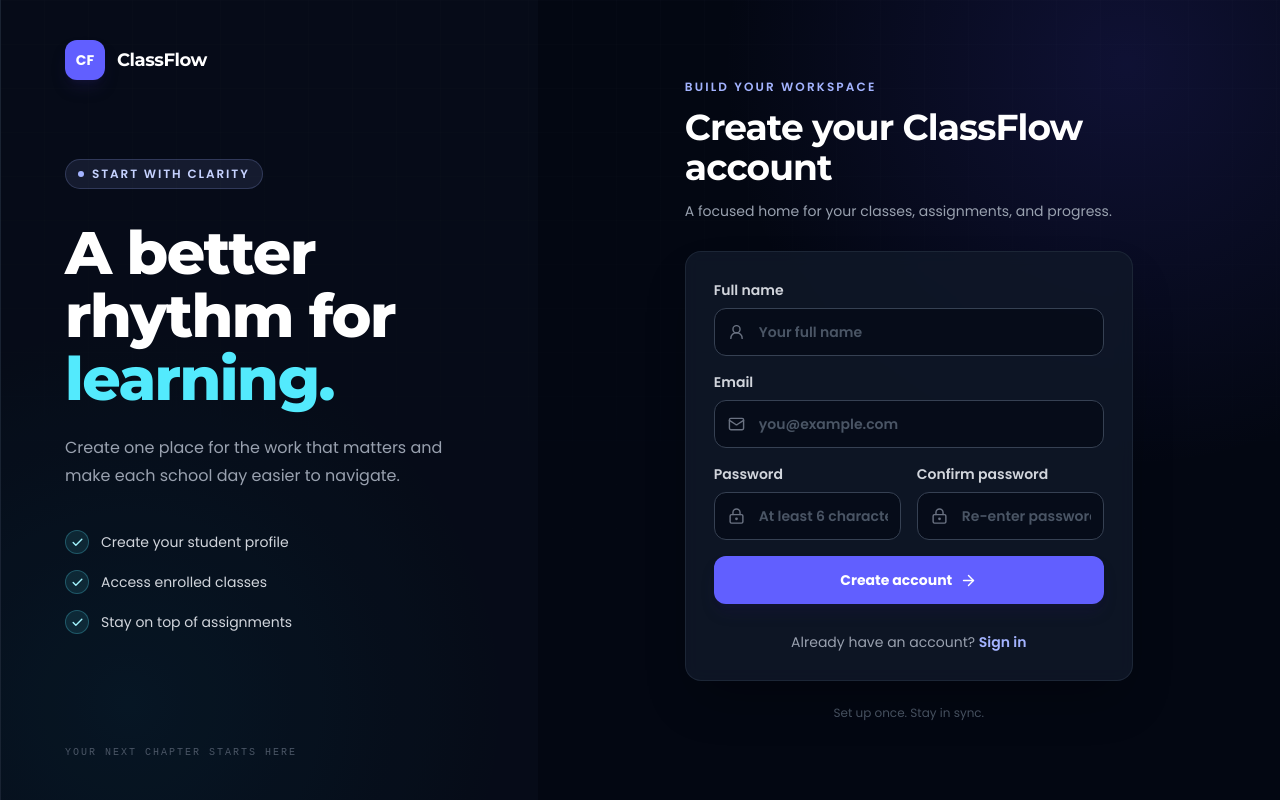
it: Signup › shows client validation and avoids a request
The image size is (1280, 800).
Click the button "Create account" at [909, 580], box x1=714 y1=556 x2=1104 y2=604
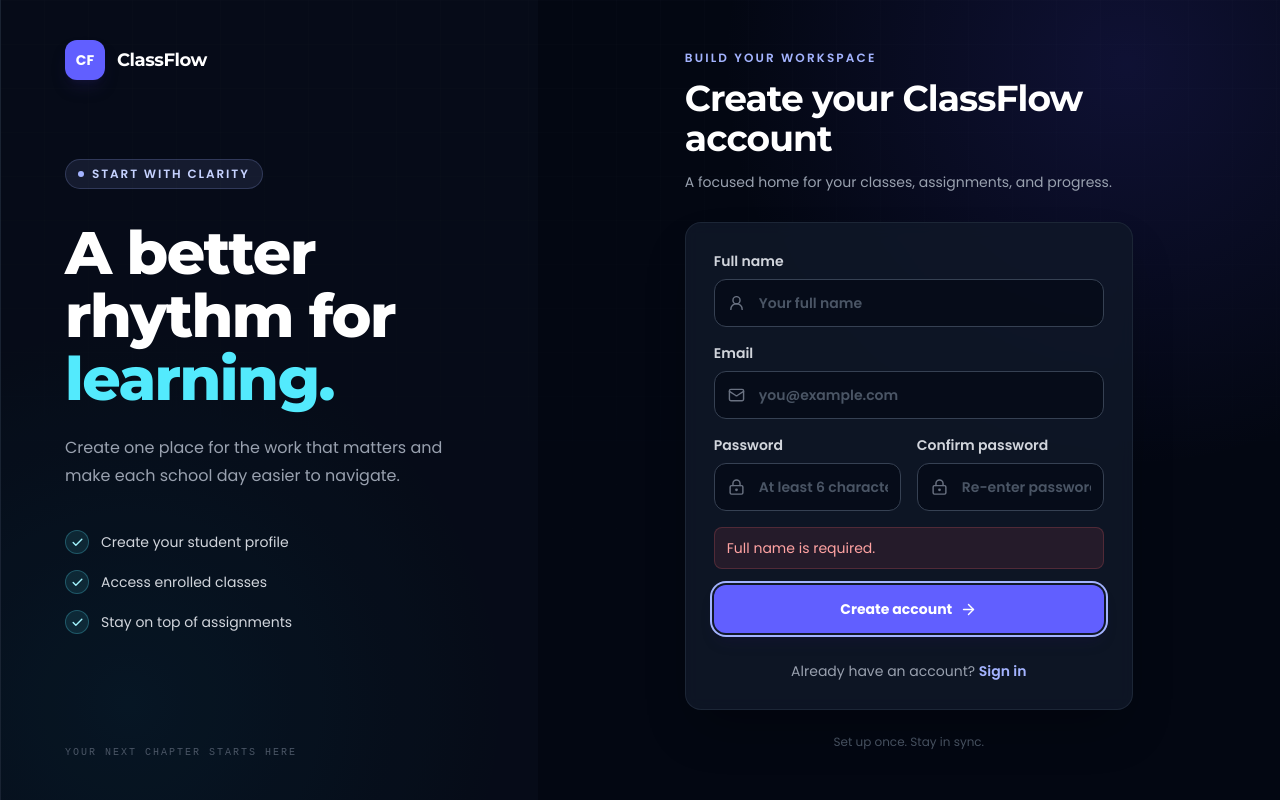
Check: the message reads "Full name is required.", box x1=727 y1=538 x2=875 y2=558
